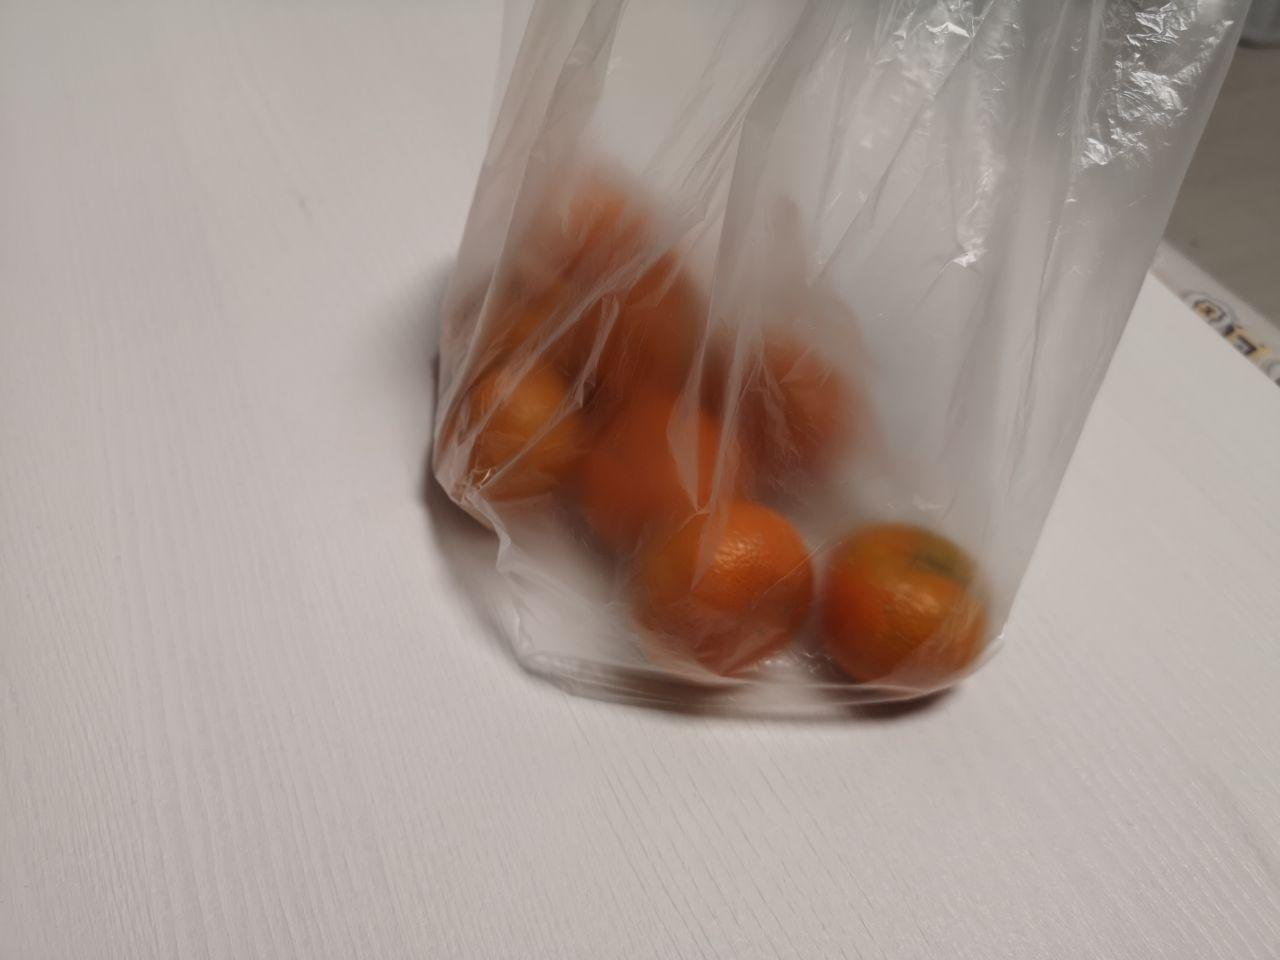clementin: (427, 127, 1045, 728)
